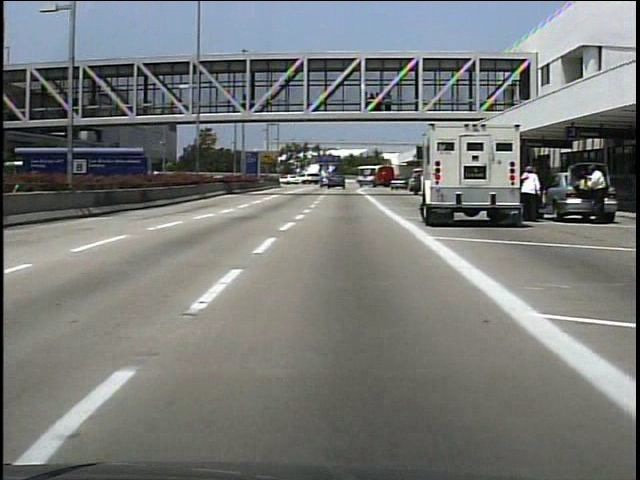person: (585, 162, 612, 228), (518, 159, 541, 225)
